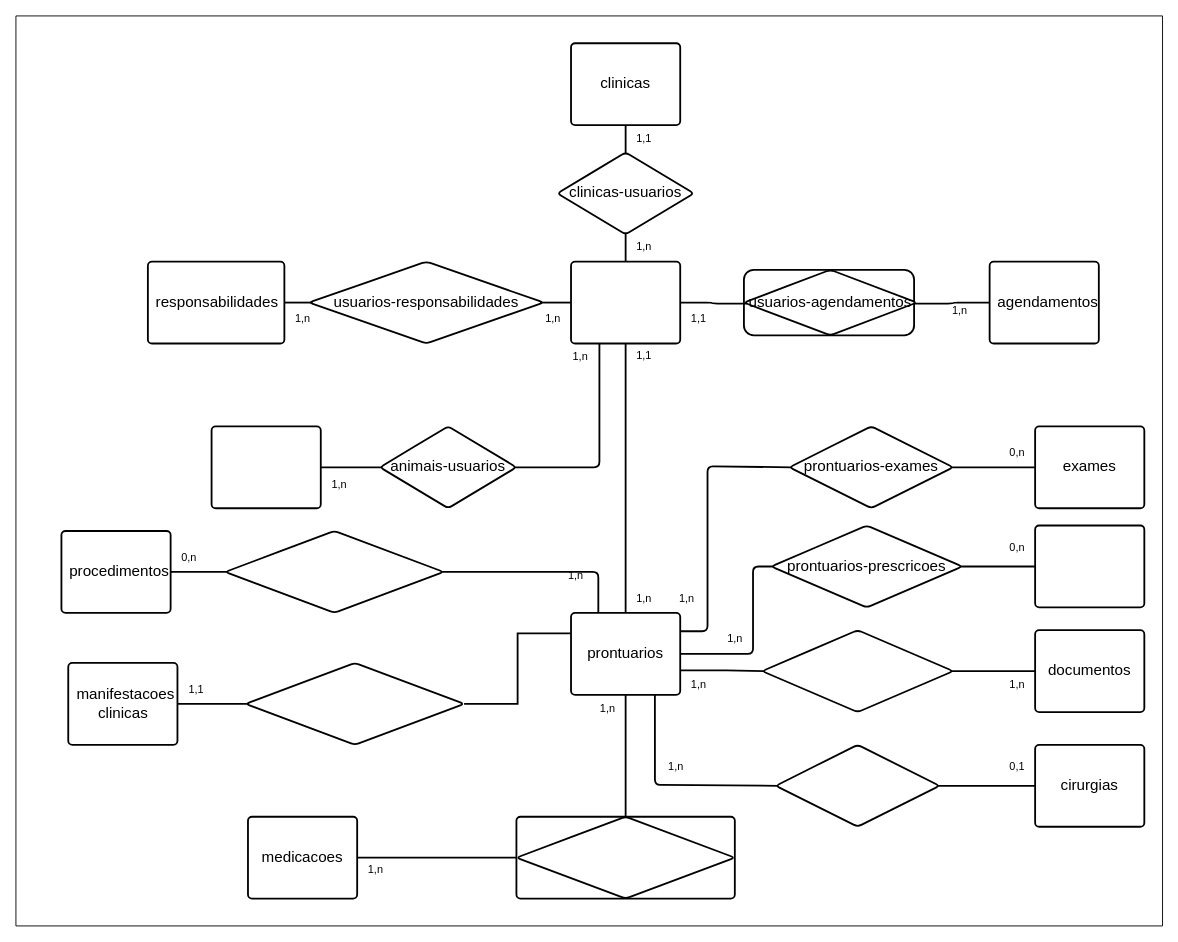
This 1178x942 diagram has some shape labels left out. Here are the shapes that lost their labels. From the top down, the centre of each, then its label:
At [625,302]: "usuarios".
At [265,467]: "animais".
At [334,571]: "prontuarios-procedimentos".
At [1089,566]: "prescricoes".
At [857,671]: "prontuarios-documentos".
At [354,703]: "prontuarios-manifestacoes".
At [857,785]: "prontuarios-cirurgias".
At [625,857]: "medicacao - prontuario".
